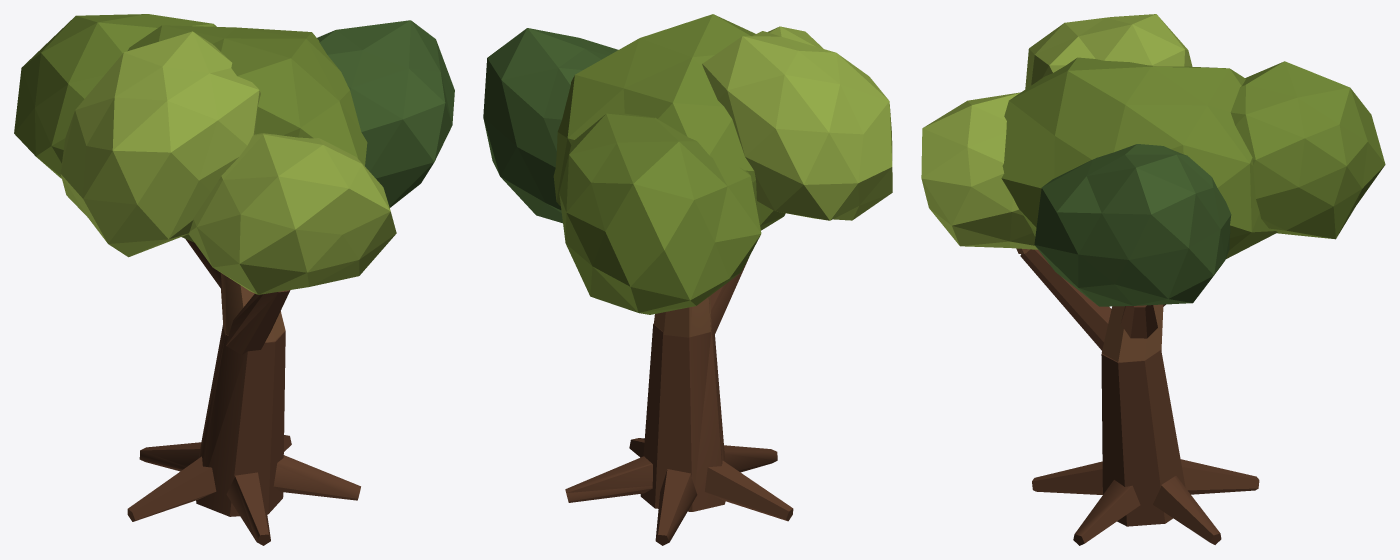
File: 01_oak.fbx
3 views of the same model, side by side, from view 1: azimuth 30°, elevation 25°; view 2: azimuth 150°, elevation 25°; view 3: azimuth 270°, elevation 25° (orthographic). The views are drawn at different scales.
Visible parts, largest first — view 1: 01_oak; view 2: 01_oak; view 3: 01_oak.
Part boxes in pixels (x1,y1,x2,y2): 01_oak: [14, 14, 454, 545]; 01_oak: [483, 14, 892, 545]; 01_oak: [921, 14, 1385, 545].
Size of the model in its own units: 3.5 by 4.14 by 3.77.
1 material, 1 textured.
